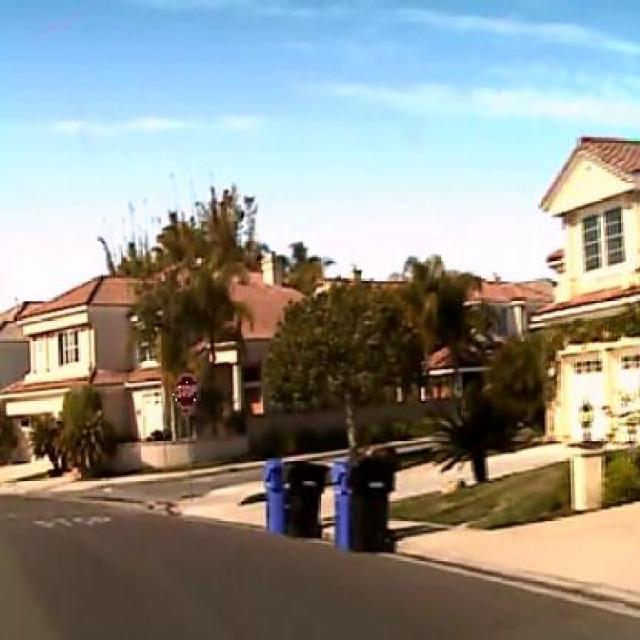stop: (172, 374, 200, 411)
